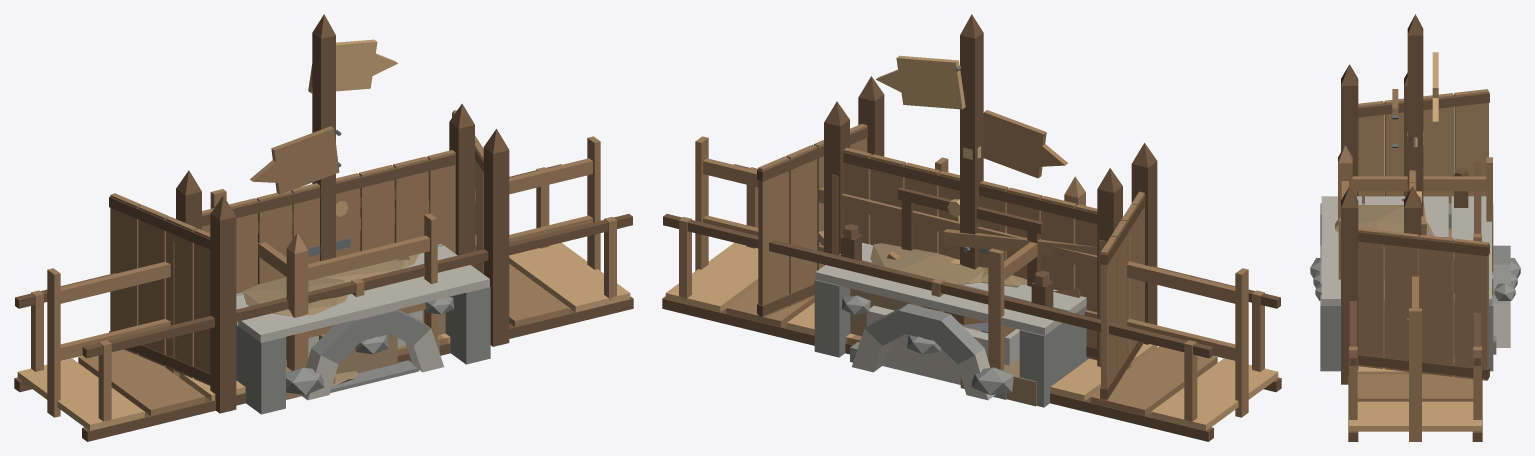
Rendered from caminos_rurales.glb.
3 renders of one model, left to right at view 1: azimuth 30°, elevation 25°; view 2: azimuth 150°, elevation 25°; view 3: azimuth 270°, elevation 25°, orthographic. The views are drawn at different scales.
Parts seen in each view (by area): view 1: camino_puente_tablas_4m, camino_porton_abierto, camino_alcantarilla_piedra, camino_porton_cerrado, camino_letrero_doble, camino_cerca_4m, camino_cerca_esquina, camino_escalones_tierra; view 2: camino_puente_tablas_4m, camino_porton_abierto, camino_alcantarilla_piedra, camino_porton_cerrado, camino_letrero_doble, camino_cerca_4m, camino_escalones_tierra, camino_cerca_esquina, camino_pila_madera, camino_abrevadero, camino_cerca_2m, camino_cerca_rota (+2 smaller); view 3: camino_porton_abierto, camino_alcantarilla_piedra, camino_puente_tablas_4m, camino_letrero_doble, camino_cerca_esquina, camino_cerca_4m, camino_porton_cerrado, camino_escalones_tierra, camino_barrera_caida.
Part boxes in pixels (x1,y1,x2,y2): camino_puente_tablas_4m: (14, 164, 633, 441); camino_porton_abierto: (109, 110, 509, 413); camino_alcantarilla_piedra: (236, 244, 490, 414); camino_porton_cerrado: (176, 103, 474, 293); camino_letrero_doble: (250, 14, 397, 261); camino_cerca_4m: (47, 136, 600, 417); camino_cerca_esquina: (210, 189, 437, 370); camino_escalones_tierra: (286, 248, 454, 399); camino_puente_tablas_4m: (662, 164, 1281, 441); camino_porton_abierto: (757, 76, 1157, 401); camino_alcantarilla_piedra: (814, 242, 1088, 407); camino_porton_cerrado: (824, 101, 1122, 366); camino_letrero_doble: (876, 14, 1067, 269); camino_cerca_4m: (695, 136, 1248, 417); camino_escalones_tierra: (841, 288, 1036, 406); camino_cerca_esquina: (935, 157, 1085, 370); camino_pila_madera: (897, 187, 1043, 333); camino_abrevadero: (850, 305, 1019, 399); camino_cerca_2m: (832, 174, 1105, 367); camino_cerca_rota: (817, 229, 1131, 369); camino_porton_abierto: (1341, 64, 1489, 384); camino_alcantarilla_piedra: (1320, 196, 1510, 371); camino_puente_tablas_4m: (1348, 161, 1482, 441); camino_letrero_doble: (1392, 14, 1438, 216); camino_cerca_esquina: (1338, 145, 1492, 279); camino_cerca_4m: (1409, 275, 1421, 441); camino_porton_cerrado: (1404, 73, 1426, 236); camino_escalones_tierra: (1310, 258, 1520, 300); camino_barrera_caida: (1401, 168, 1468, 292).
Size of the model in its own units: 4 by 2.34 by 1.46.
